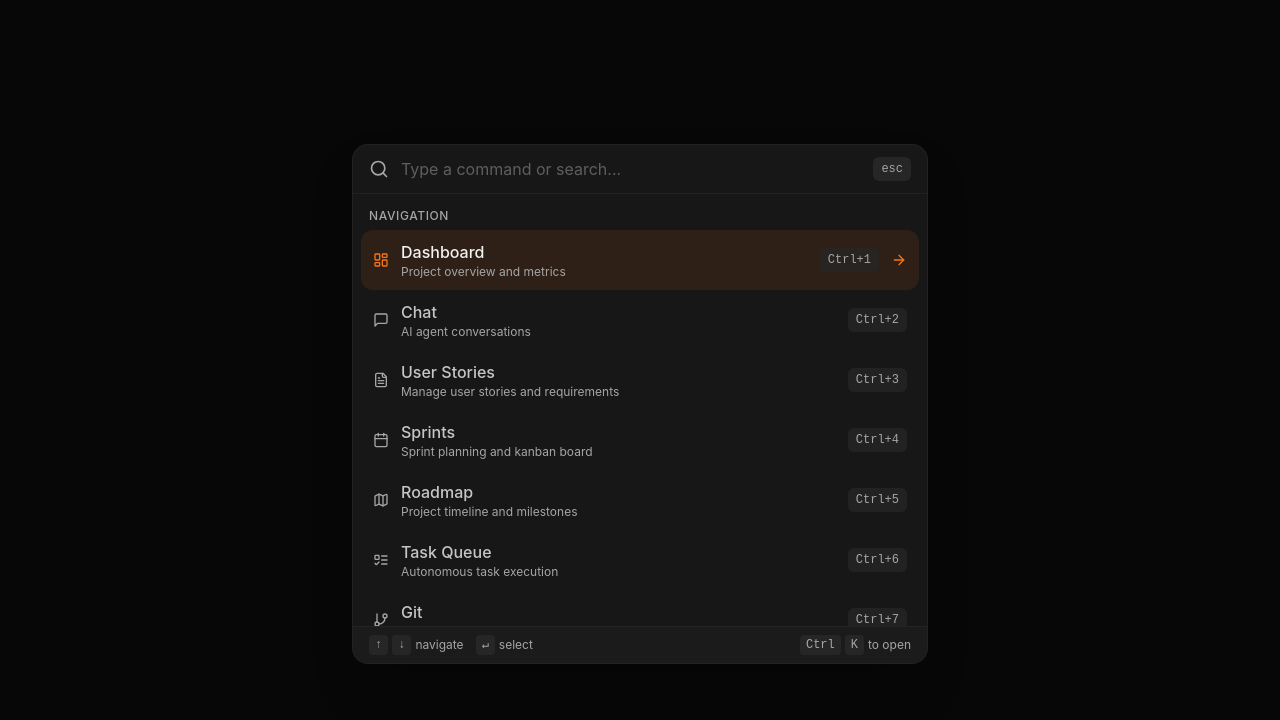
it: CommandPalette › Search filtering › should show "No commands found" when no matches
In the field with placeholder "Type a command or search...": (631, 169) [401,157,861,181], type "xyzzzzz"
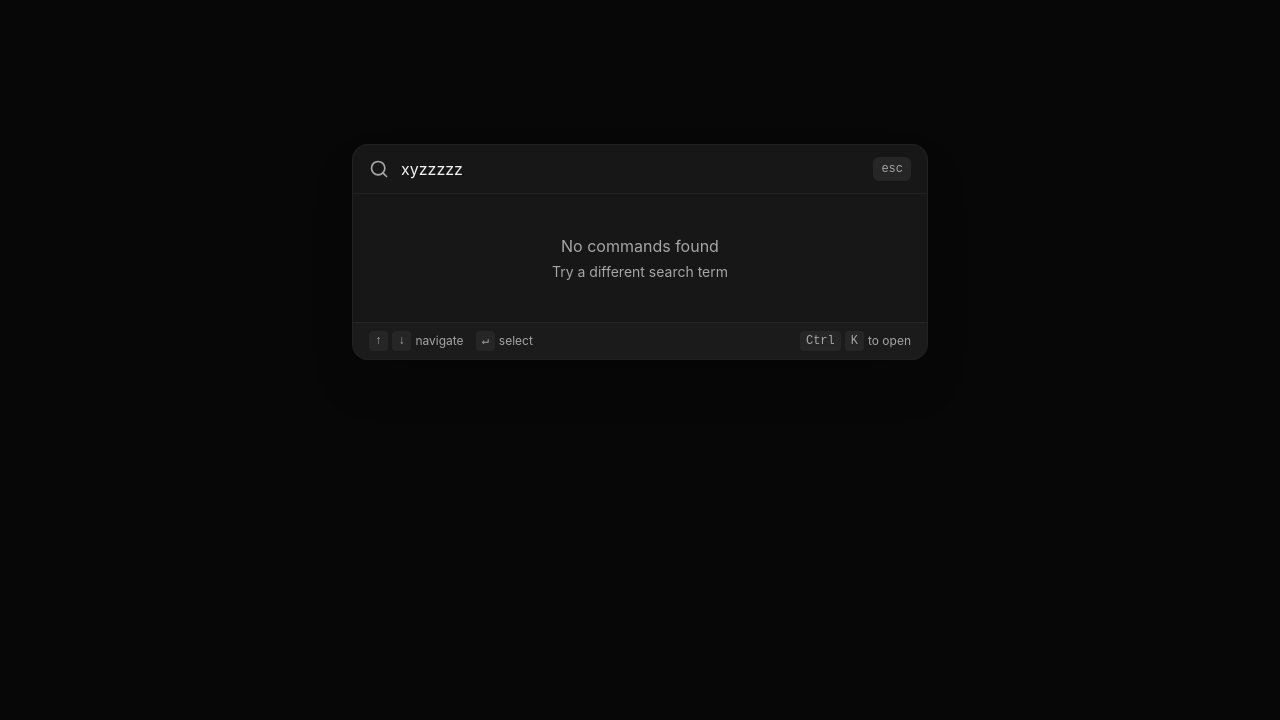
Result: the text "No commands found" is shown at [561,236,719,256]
Result: the text "Try a different search term" is shown at [552,263,728,280]
